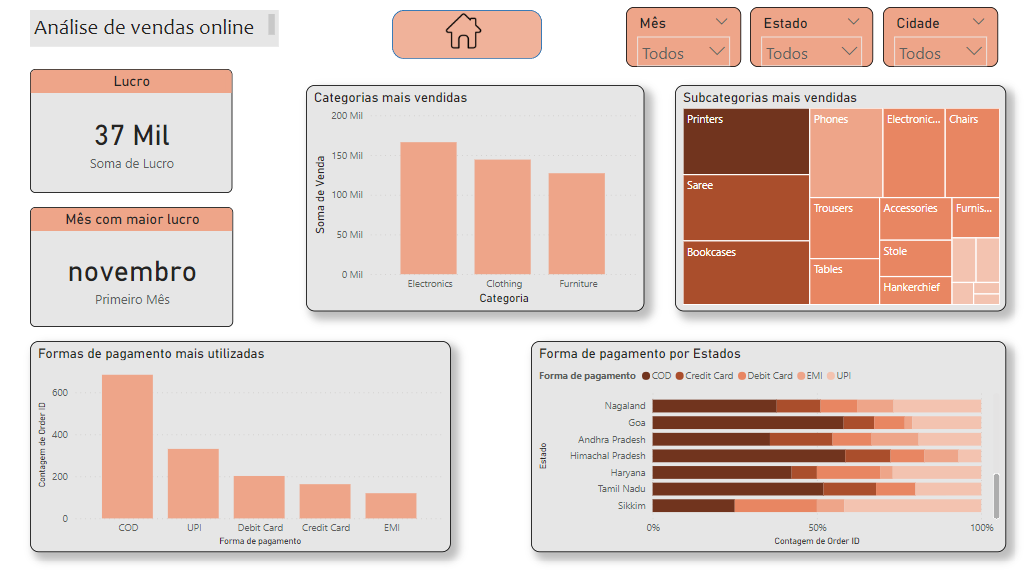

This screenshot's page, from the dashboard's own definition file:
{"tool":"powerbi","page":{"name":"Página 2","canvas":[1280,720],"ordinal":1},"visuals":[{"type":"textbox","box":[37.5,12.5,311.2,46.2],"z":0},{"type":"card","title":"Lucro","fields":{"Values":["Sum(Consulta.Lucro)"]},"box":[37.5,86.2,252.5,155],"z":1000},{"type":"treemap","title":"Subcategorias mais vendidas","fields":{"Group":["Consulta.Sub-Categoria"],"Values":["Sum(Consulta.Venda)"]},"box":[843.8,106.2,413.8,282.5],"z":2000},{"type":"clusteredColumnChart","title":"Categorias mais vendidas","fields":{"Category":["Consulta.Categoria"],"Y":["Sum(Consulta.Venda)"]},"box":[382.5,106.2,422.5,282.5],"z":3000},{"type":"clusteredColumnChart","title":"Formas de pagamento mais utilizadas","fields":{"Category":["Consulta.Forma de pagamento"],"Y":["CountNonNull(Consulta.Order ID)"]},"box":[37.5,426.2,526.2,263.8],"z":4000},{"type":"hundredPercentStackedBarChart","title":"Forma de pagamento por Estados","fields":{"Category":["Consulta.Estado"],"Series":["Consulta.Forma de pagamento"],"Y":["CountNonNull(Consulta.Order ID)"]},"box":[663.8,426.2,593.8,263.8],"z":5000},{"type":"card","title":"Mês com maior lucro","fields":{"Values":["Min(Consulta.Data do pedido.Variation.Hierarquia de datas.Mês)"]},"box":[37.5,258.8,253.8,150],"z":6000},{"type":"shape","box":[490,12.5,187.5,61.2],"z":7000},{"type":"image","box":[542.5,3.8,73.8,70],"z":8000},{"type":"actionButton","box":[525,12.5,125,61.2],"z":8001},{"type":"slicer","fields":{"Values":["Consulta.Data do pedido","Consulta.Data do pedido.Variation.Hierarquia de datas.Mês"]},"box":[782.5,8.9,143.8,75.1],"z":8002},{"type":"slicer","fields":{"Values":["Consulta.Estado"]},"box":[937.7,8.9,154,75.1],"z":8003},{"type":"slicer","fields":{"Values":["Consulta.Cidade"]},"box":[1103.1,8.9,143.8,75.1],"z":8004}]}

Visuals, with their boxes in screenshot pixels (x1, y1, x2, y2), scaled from the page's 1280x720 canvas onto the 1024x570 screenshot:
textbox: 30:10:279:46
"Lucro" card: 30:68:232:191
"Subcategorias mais vendidas" treemap: 675:84:1006:308
"Categorias mais vendidas" clusteredColumnChart: 306:84:644:308
"Formas de pagamento mais utilizadas" clusteredColumnChart: 30:337:451:546
"Forma de pagamento por Estados" hundredPercentStackedBarChart: 531:337:1006:546
"Mês com maior lucro" card: 30:205:233:324
shape: 392:10:542:58
image: 434:3:493:58
actionButton: 420:10:520:58
slicer - Consulta.Data do pedido x Consulta.Data do pedido.Variation.Hierarquia de datas.Mês: 626:7:741:66
slicer - Consulta.Estado: 750:7:873:66
slicer - Consulta.Cidade: 882:7:998:66
